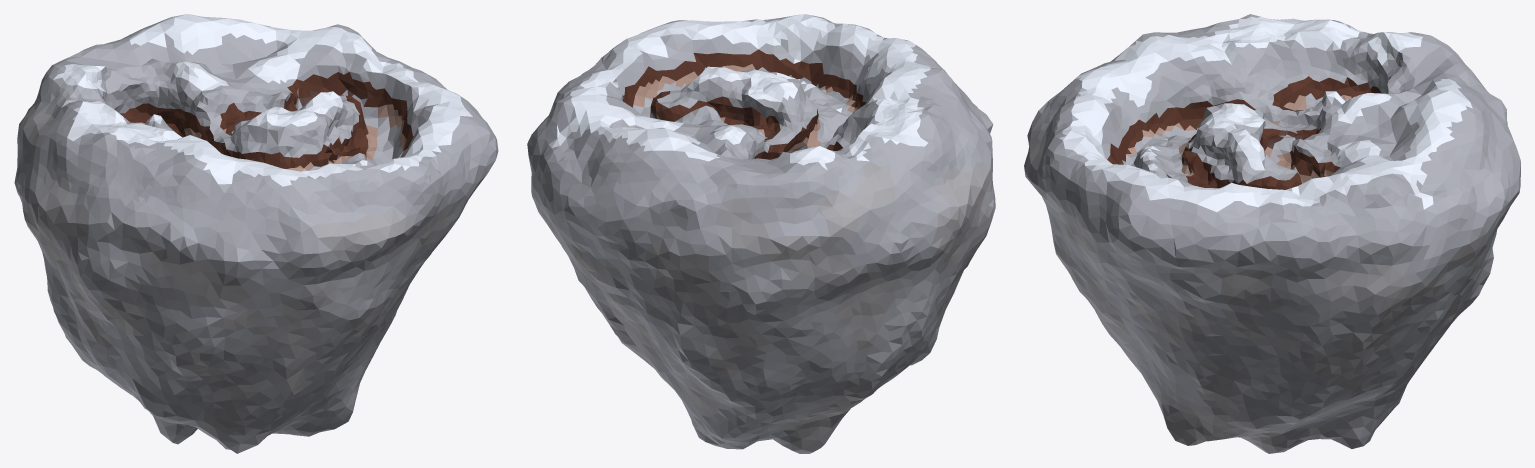
The model's file is RuthlessRacingMap1TerrainFBX.fbx.
The picture shows the model from 3 angles, left to right: view 1: azimuth 30°, elevation 25°; view 2: azimuth 150°, elevation 25°; view 3: azimuth 270°, elevation 25°; orthographic projection. The views are drawn at different scales.
Visible parts, largest first — view 1: Icosphere; view 2: Icosphere; view 3: Icosphere.
Boxes of the visible parts, left/top/right/bottom form: Icosphere: left=14, top=14, right=498, bottom=453; Icosphere: left=527, top=14, right=995, bottom=453; Icosphere: left=1024, top=14, right=1520, bottom=453.
Size of the model in its own units: 3942 by 3318 by 4036.
